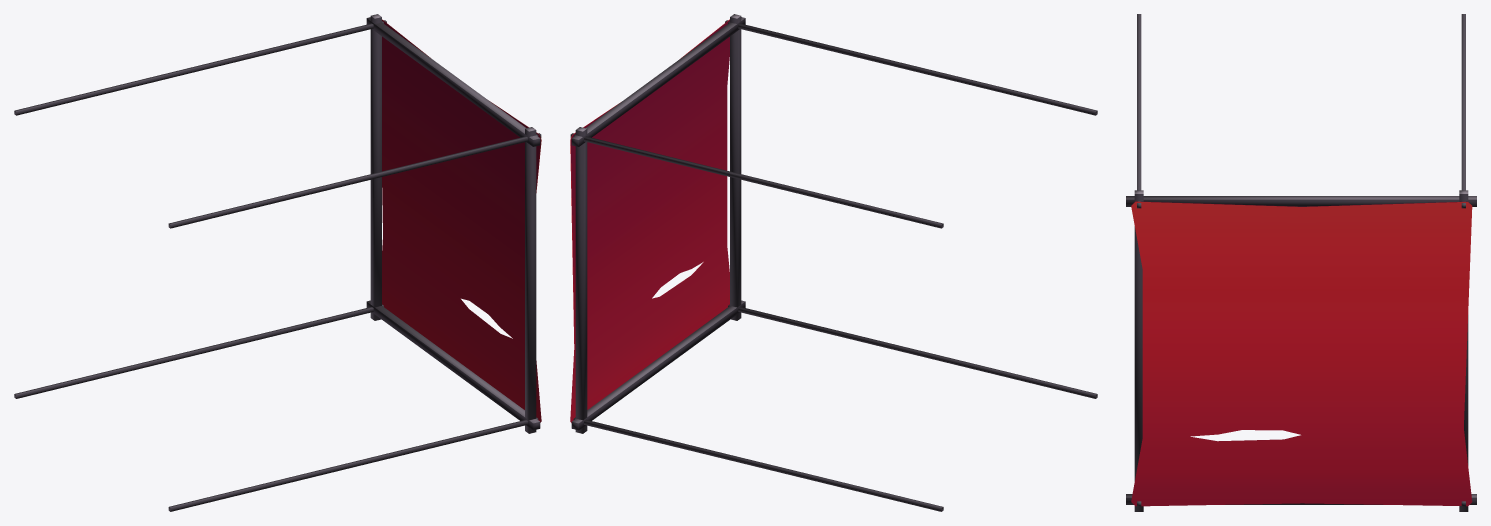
The model's file is Safety_Net_3E.fbx.
3 renders of one model, left to right at view 1: azimuth 30°, elevation 25°; view 2: azimuth 150°, elevation 25°; view 3: azimuth 270°, elevation 25°, orthographic. The views are drawn at different scales.
Visible parts, largest first — view 1: Safety_Net_3E; view 2: Safety_Net_3E; view 3: Safety_Net_3E.
Part boxes in pixels (left/top/right/bottom): Safety_Net_3E: left=14, top=14, right=541, bottom=511; Safety_Net_3E: left=570, top=14, right=1097, bottom=511; Safety_Net_3E: left=1126, top=14, right=1476, bottom=511.
Bounding box in the file's own units: 513 × 400 × 400.
